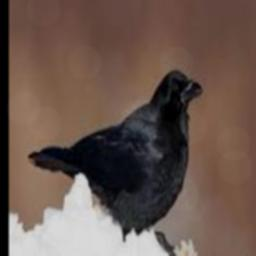Crow: (28, 70, 204, 256)
